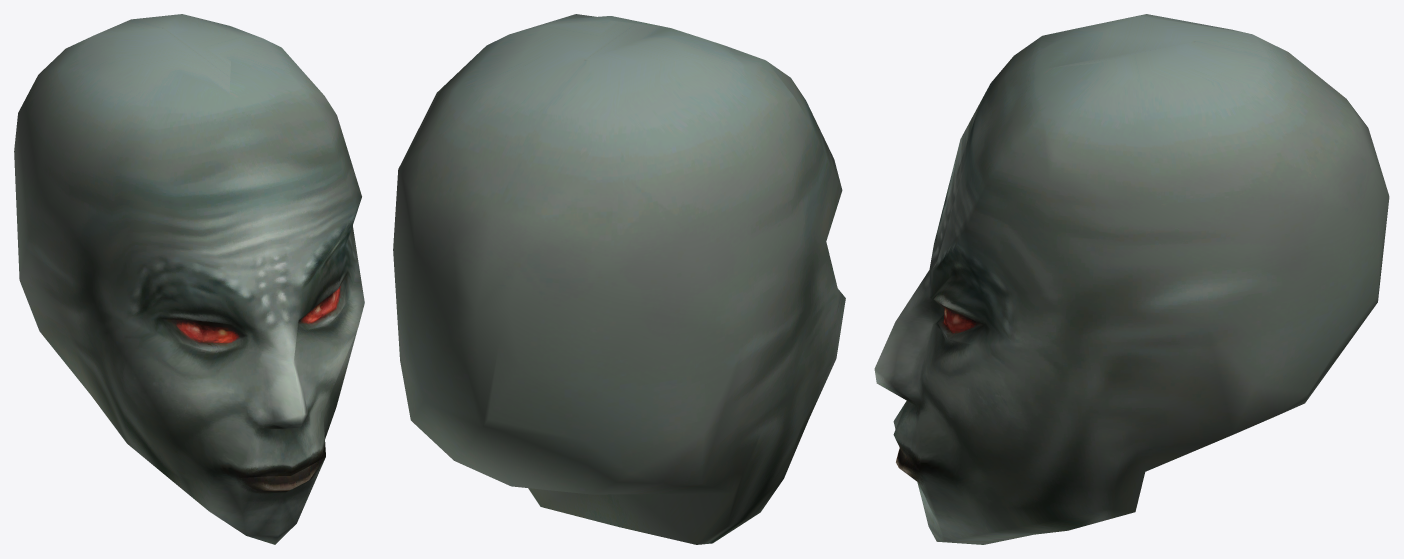
Rendered from b_n_dark elf_f_head_09.glb.
The picture shows the model from 3 angles, left to right: view 1: azimuth 30°, elevation 25°; view 2: azimuth 150°, elevation 25°; view 3: azimuth 270°, elevation 25°; orthographic projection. The views are drawn at different scales.
Visible parts, largest first — view 1: Tri B_N_Dark Elf_F_Head_09; view 2: Tri B_N_Dark Elf_F_Head_09; view 3: Tri B_N_Dark Elf_F_Head_09.
Boxes of the visible parts, left/top/right/bottom form: Tri B_N_Dark Elf_F_Head_09: left=14, top=14, right=364, bottom=544; Tri B_N_Dark Elf_F_Head_09: left=393, top=14, right=845, bottom=544; Tri B_N_Dark Elf_F_Head_09: left=874, top=14, right=1389, bottom=544.
Size of the model in its own units: 0.0941 by 0.1518 by 0.1417.
Materials: 1 (1 with a texture image).
